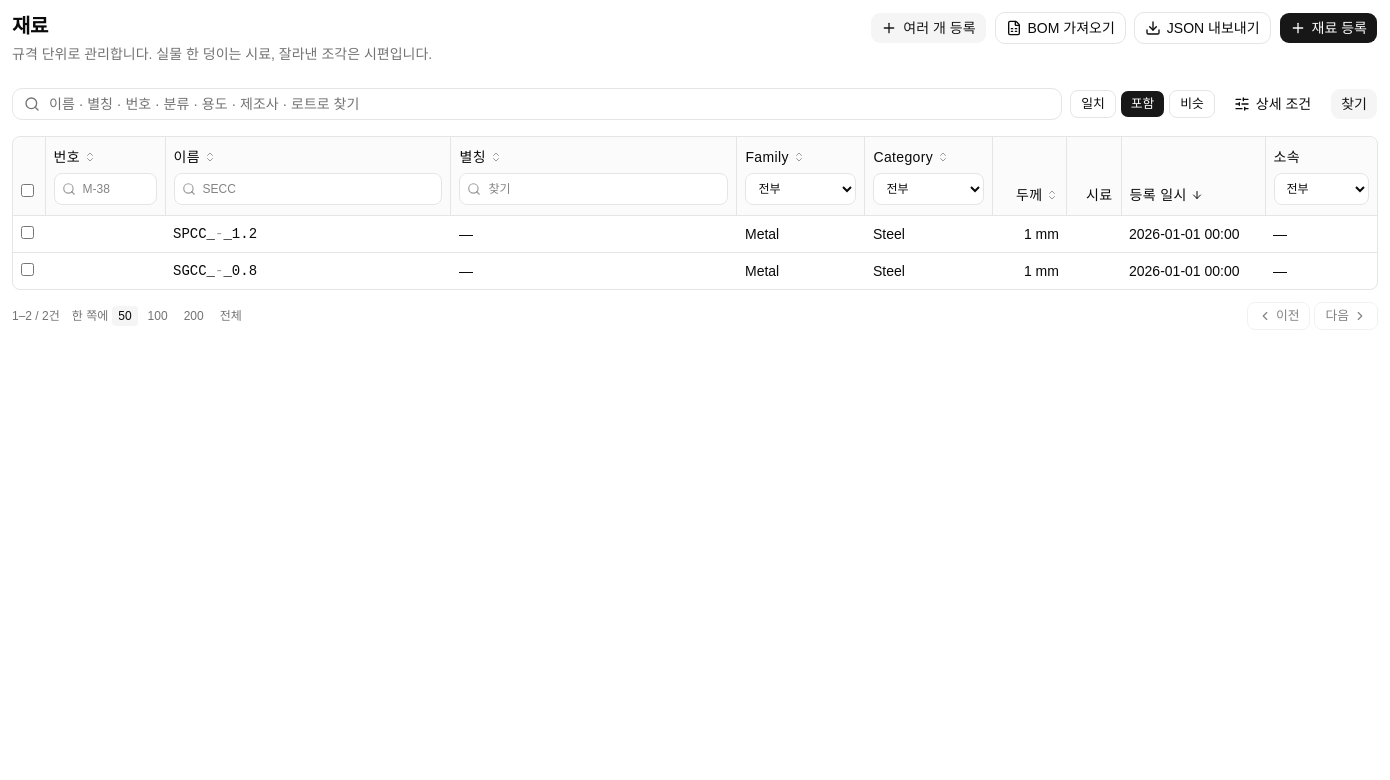
Test: 찾기 — 방식과 상세 조건 (2026-09-29) › 물성 값 범위는 잰 값 · 선언 항목이 있는 물성만 고르게 하고 SI 로 싣는다 (2026-10-04)
Expected: the link "SPCC_-_1.2" is shown, 173,226 -> 257,242
Click the button "상세 조건". click: (1272, 104)
box: 1223,88 -> 1322,120
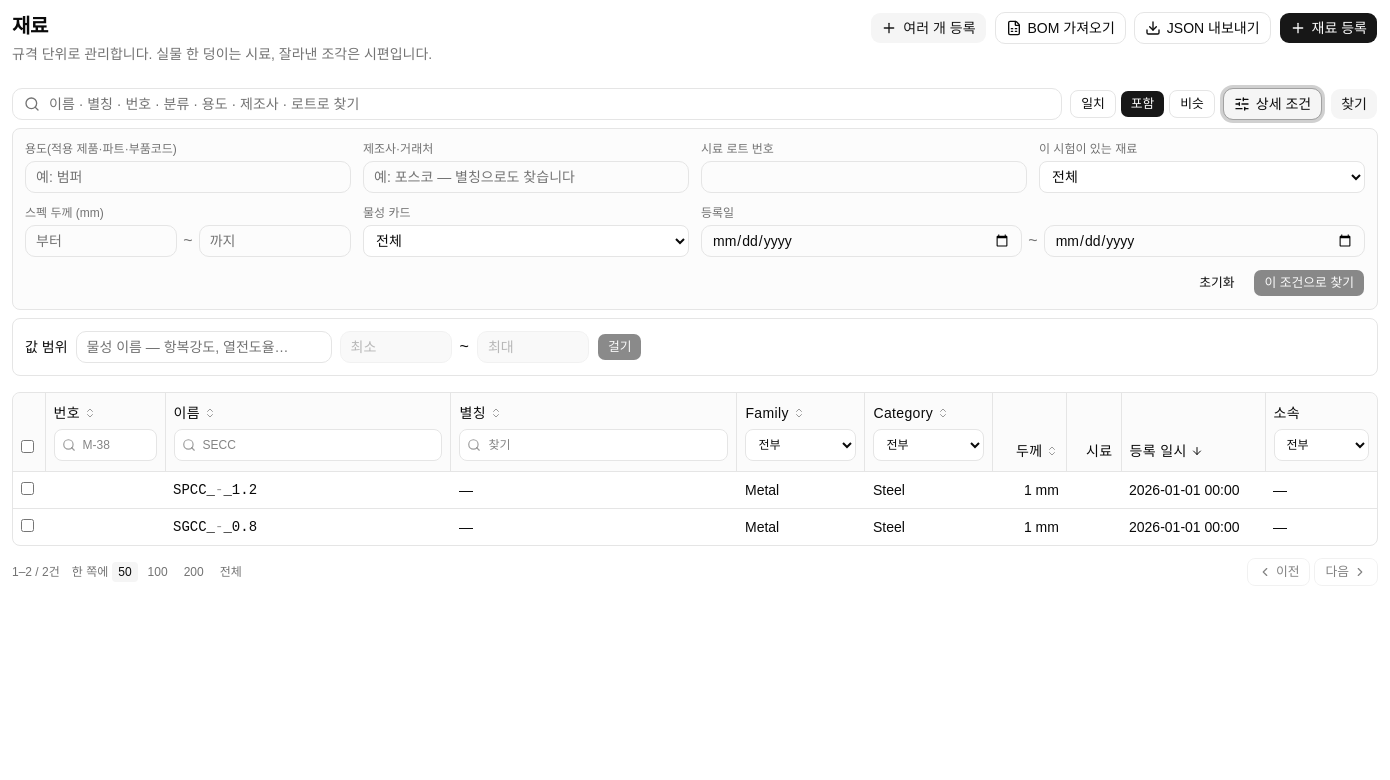
Type "항복" into the field named "값으로 거를 물성". click: (204, 347)
box: 76,331 -> 332,363
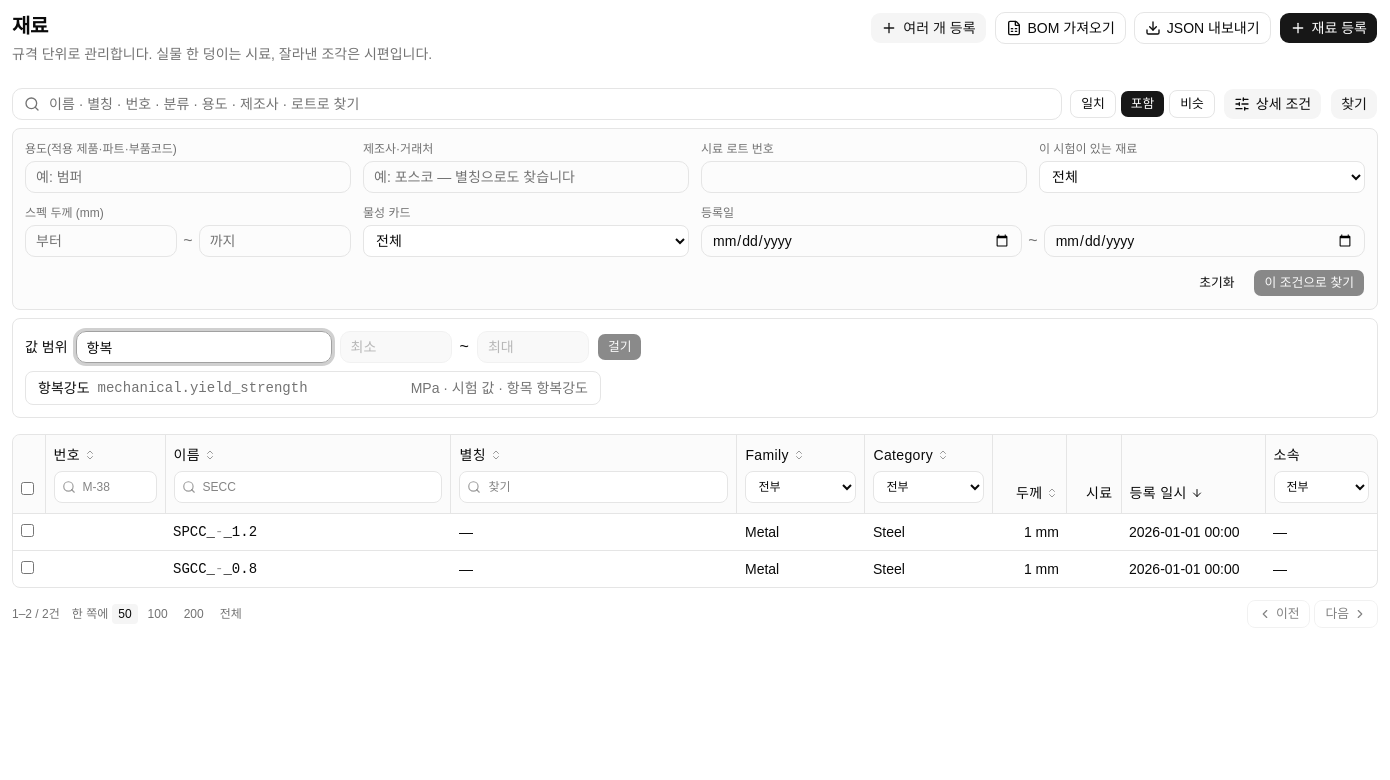
Click the button "항복강도 mechanical.yield_strength MPa · 시험 값 · 항목 항복강도". click: (64, 388)
box: 26,372 -> 600,404
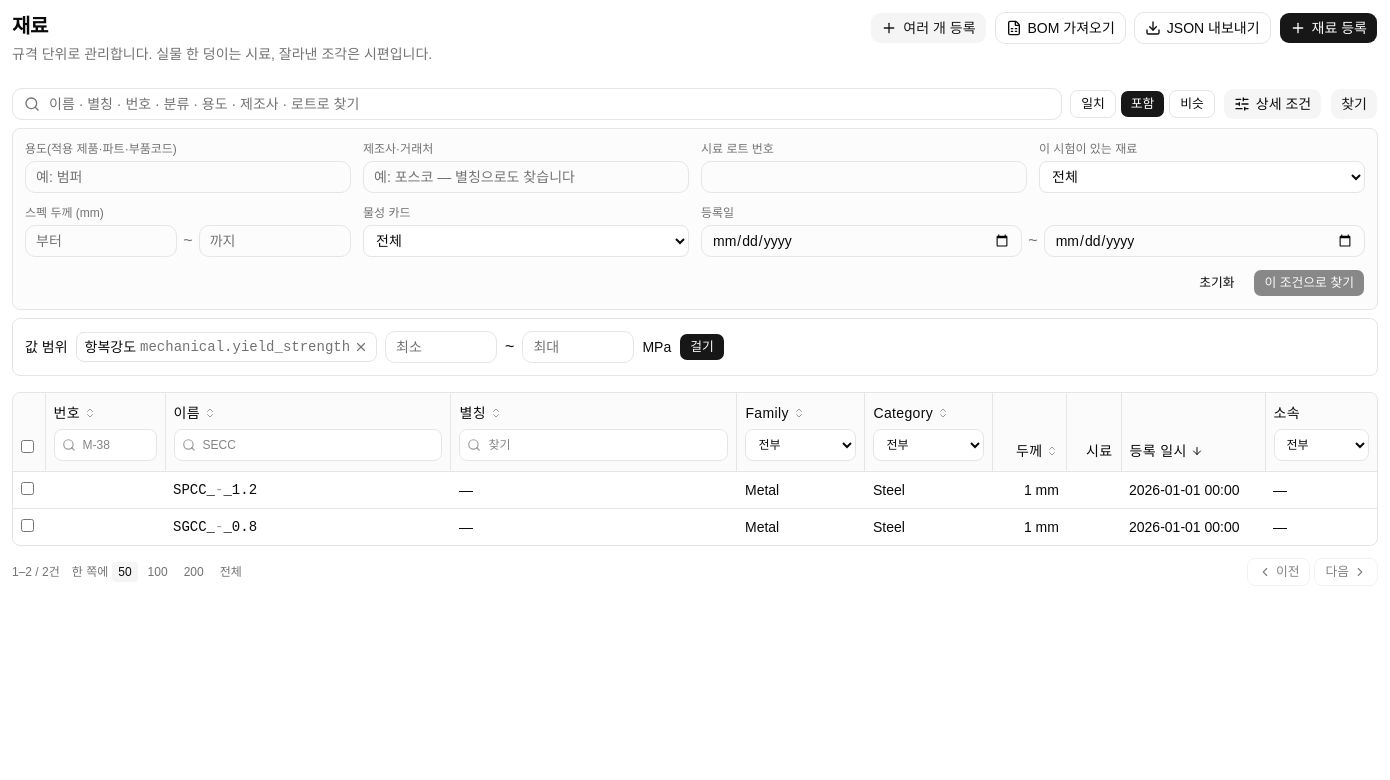
Type "250" into the field named "최솟값". click: (441, 347)
box: 385,331 -> 497,363
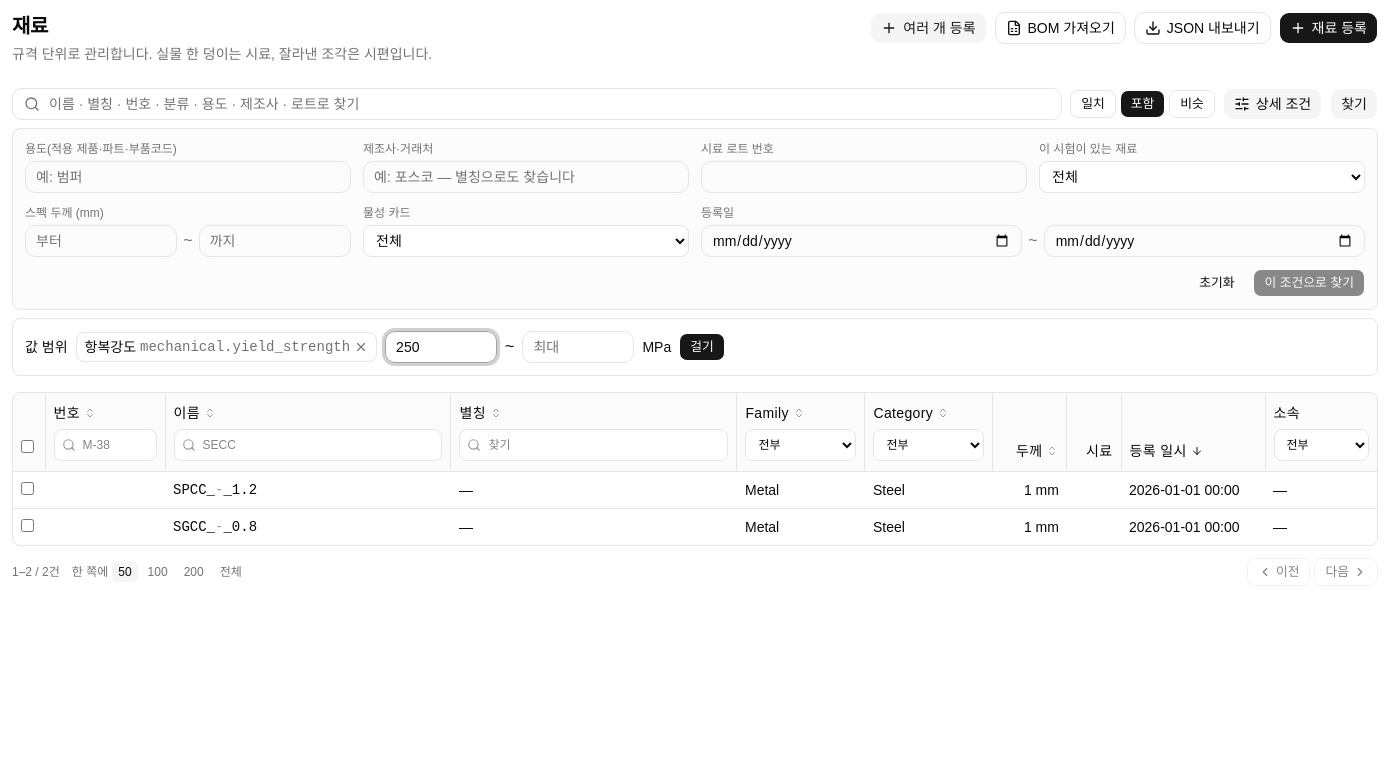
Click the button "걸기". click: (702, 347)
box: 679,333 -> 725,361
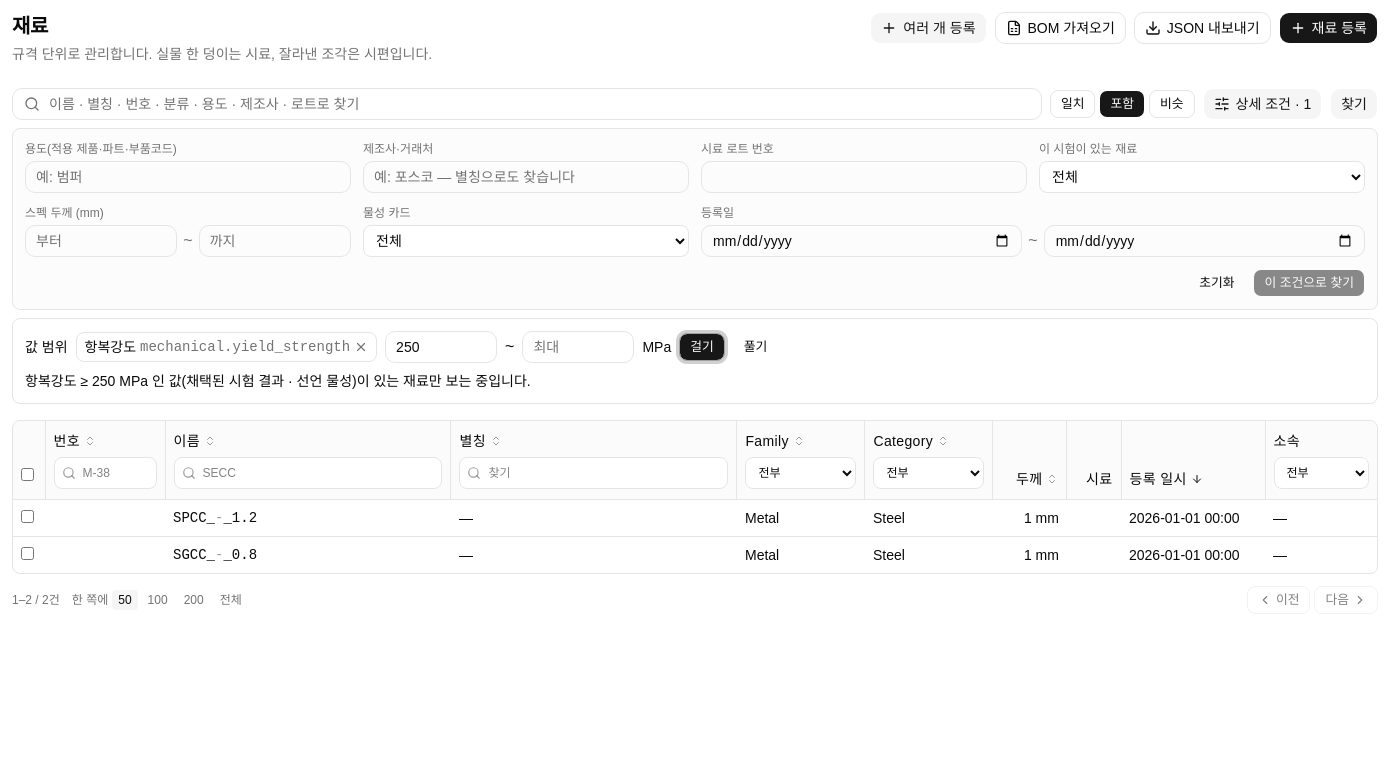
Result: the text "mechanical.yield_strength" is shown at 140,337 -> 350,357
Result: the button "상세 조건 · 1" is shown at 1203,88 -> 1322,120
Result: the message shows "채택된 시험 결과 · 선언 물성" at 25,373 -> 531,389
